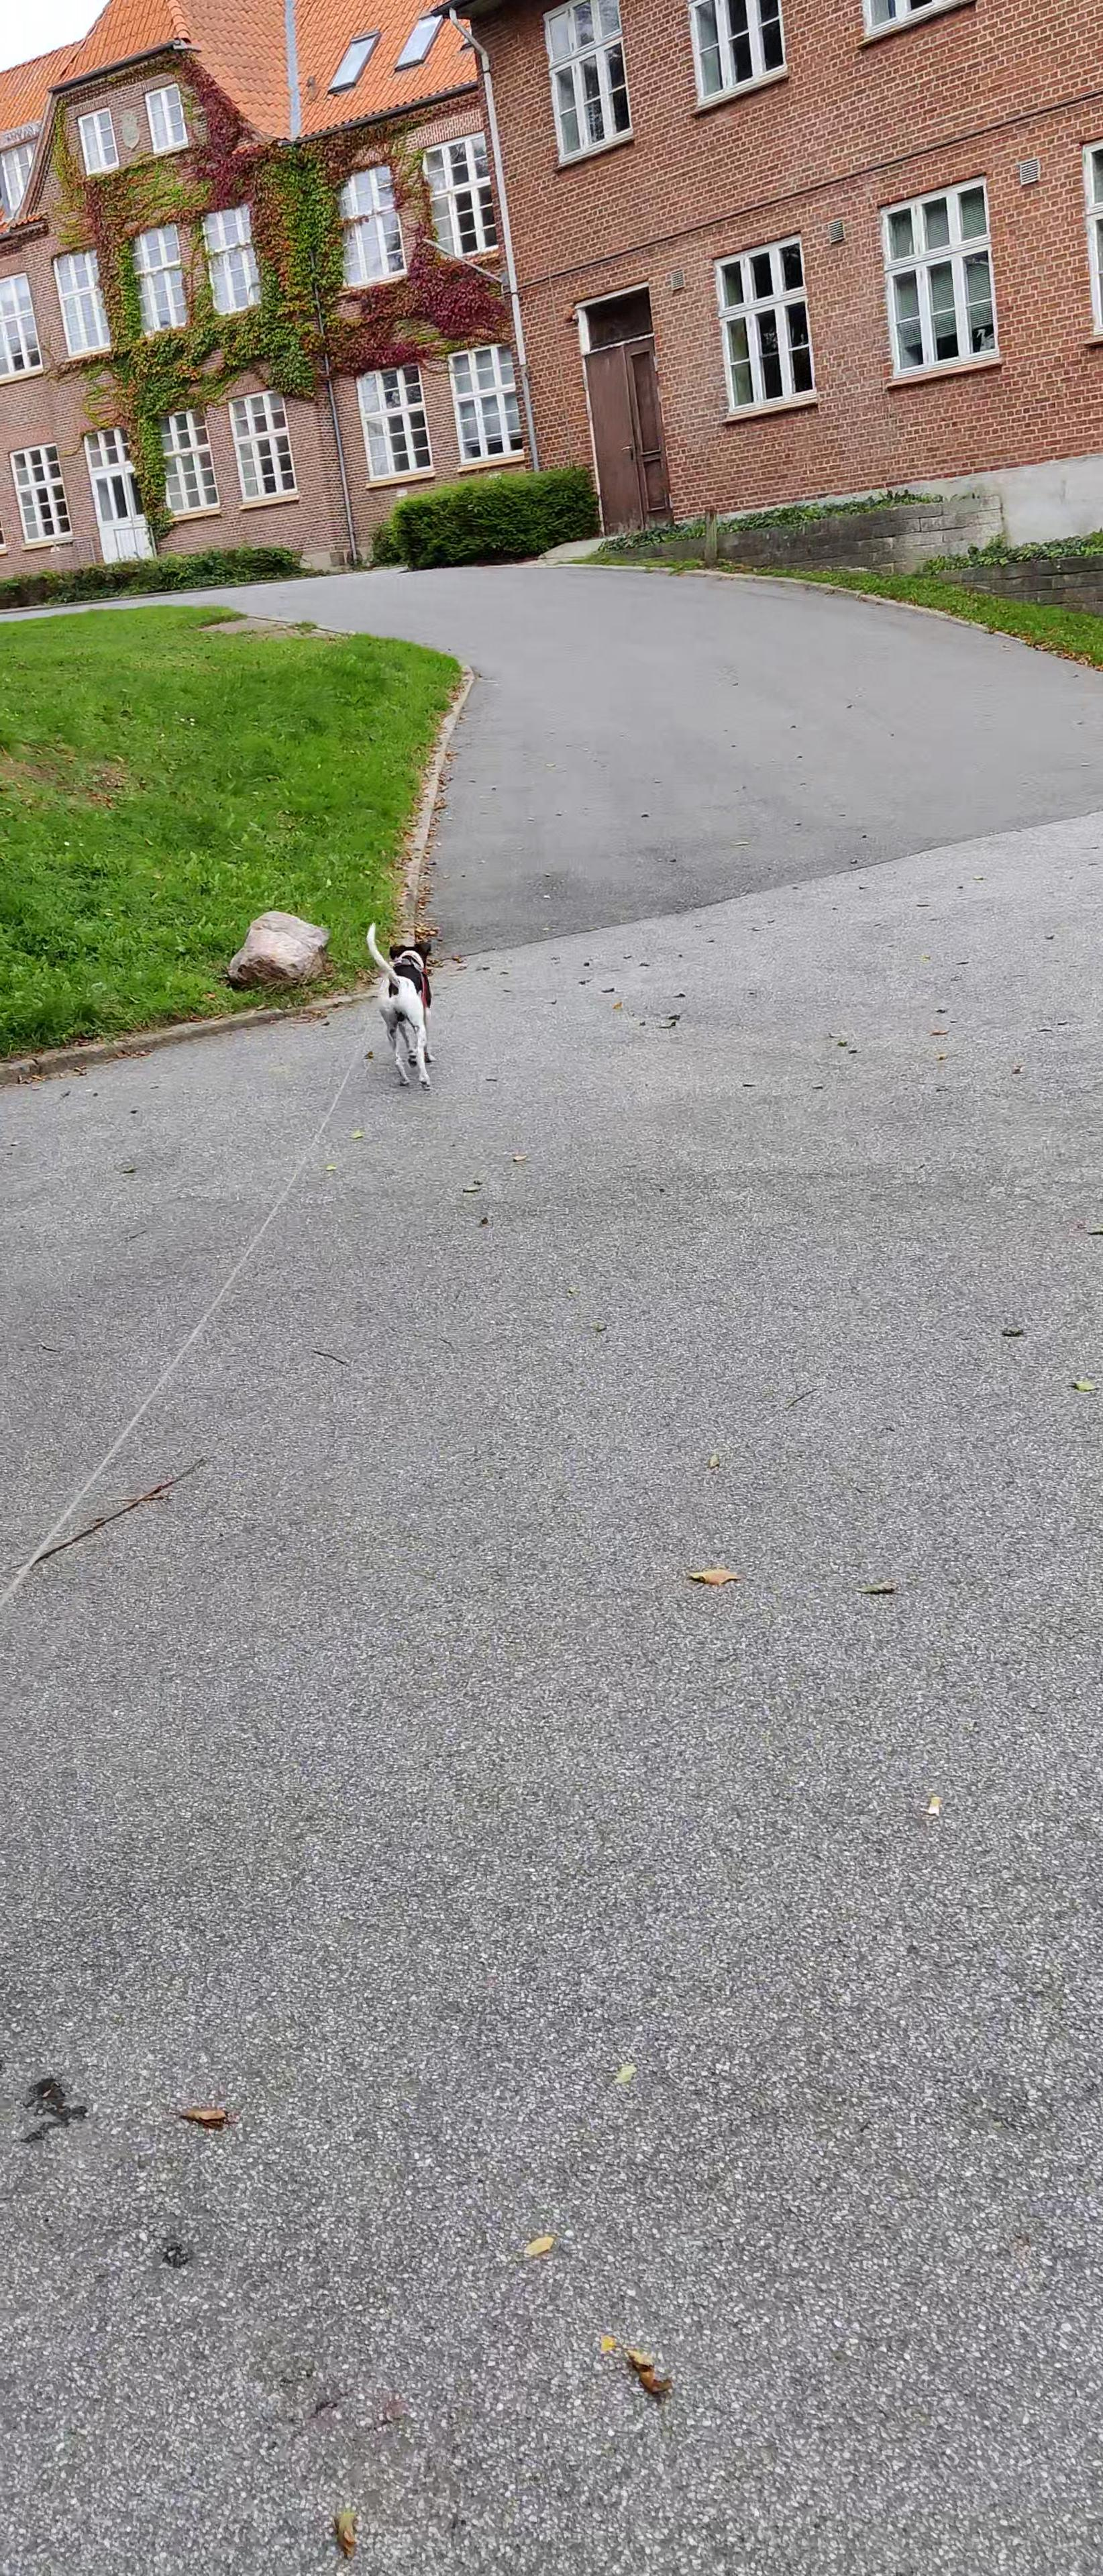Dog: (363, 920, 442, 1089)
